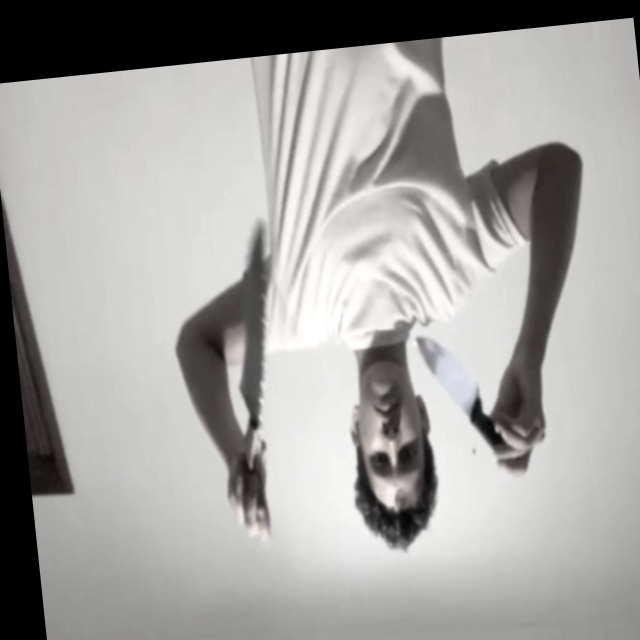Sharp-Object: (222, 225, 280, 425), (415, 335, 478, 422)
